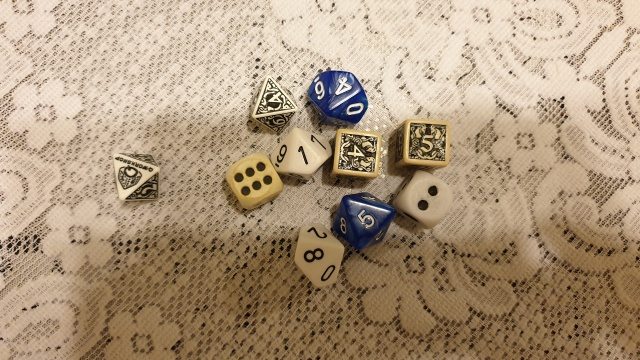d10-1: (269, 128, 331, 182)
d10-4: (302, 64, 372, 126)
d10-5: (336, 188, 392, 252)
d10-8: (288, 218, 349, 296)
d6-2: (390, 169, 455, 230)
d6-6: (221, 151, 283, 209)
d6p-4: (328, 126, 381, 185)
d6p-5: (392, 119, 453, 171)
d8p-4: (243, 73, 295, 134)
d8p-8: (100, 151, 167, 202)
